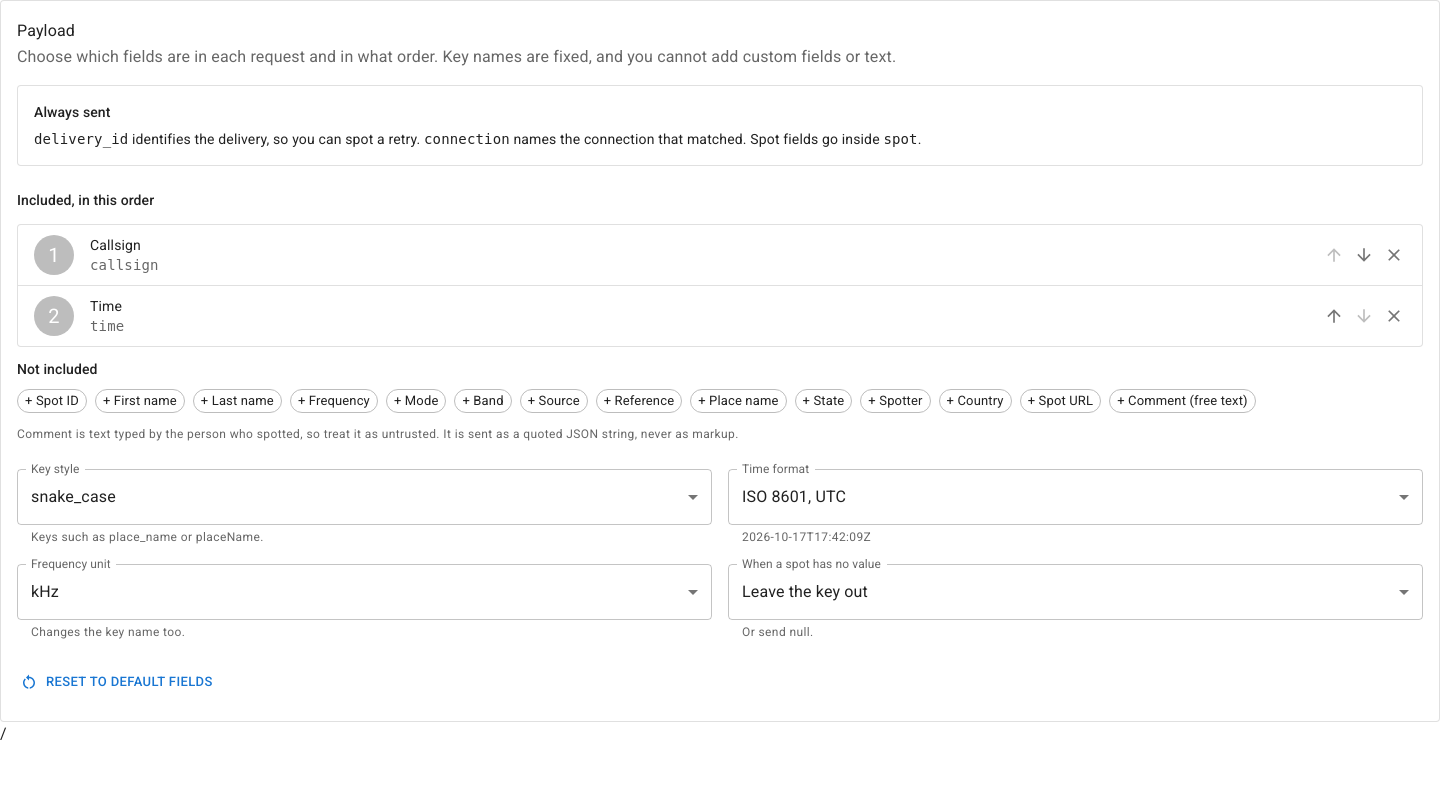
Test: WebhookPayloadCard › adds by chip, moves and removes, and keeps the minimum of one
This screenshot has width=1440, height=810.
What coordinates should you click on to do the following:
click the button with aria-label "Add Country"
I would click on:
 (975, 401)
Its box is [939,389,1012,413].
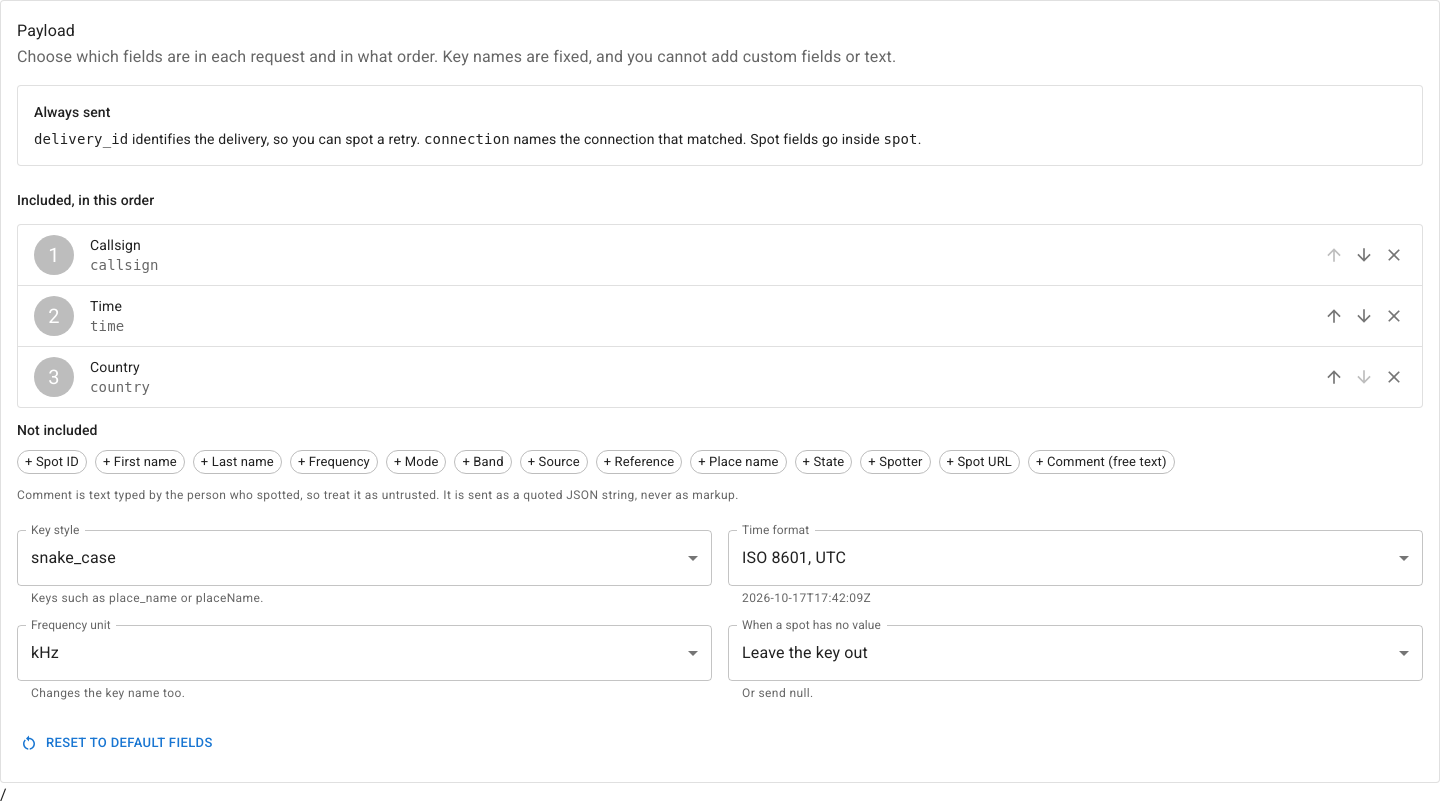
What coordinates should you click on to do the following:
click the button named "Move Country up"
I would click on:
 (1334, 377)
Its box is [1319,362,1349,392].
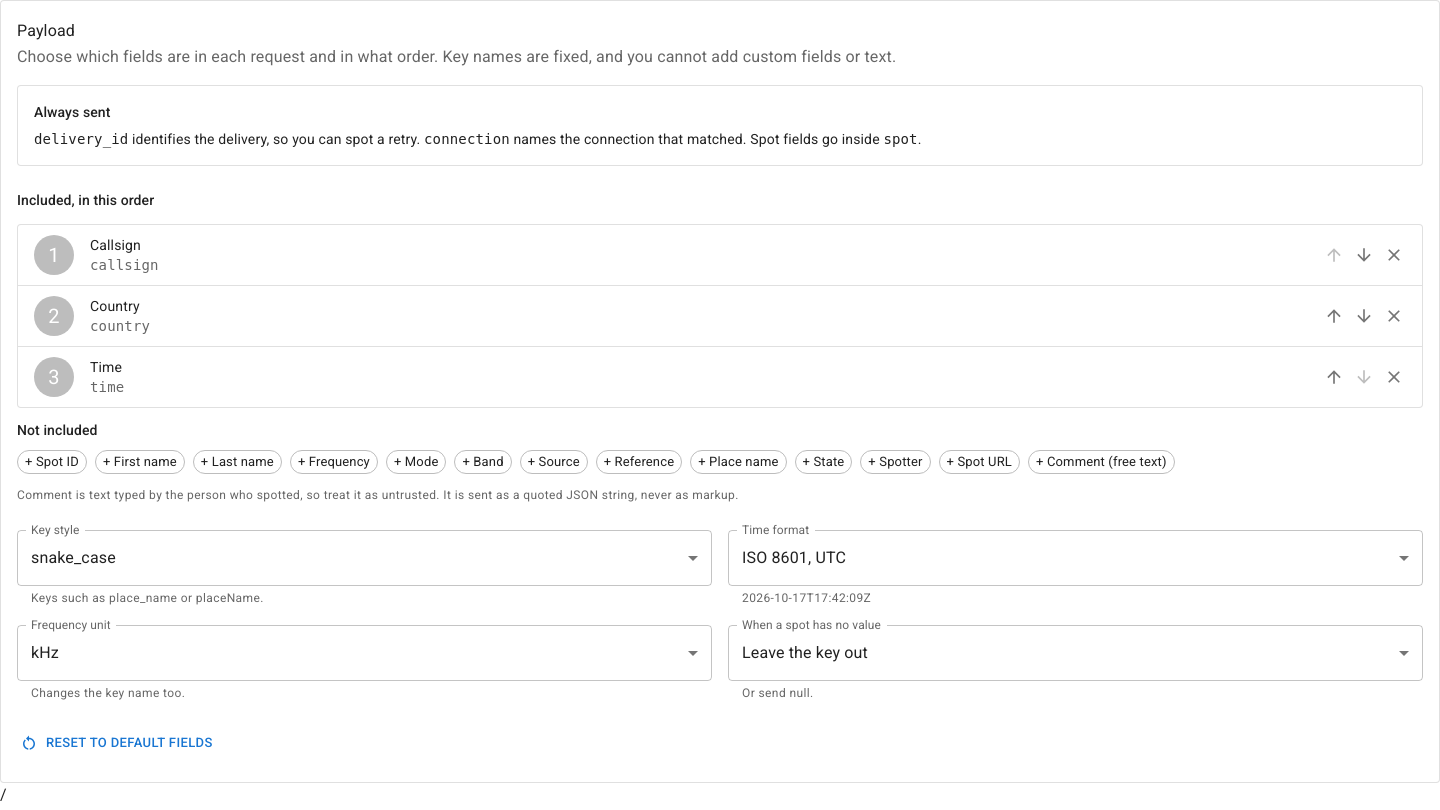
What coordinates should you click on to do the following:
click the button named "Remove Callsign"
I would click on:
 (1394, 255)
Its box is [1379,240,1409,270].
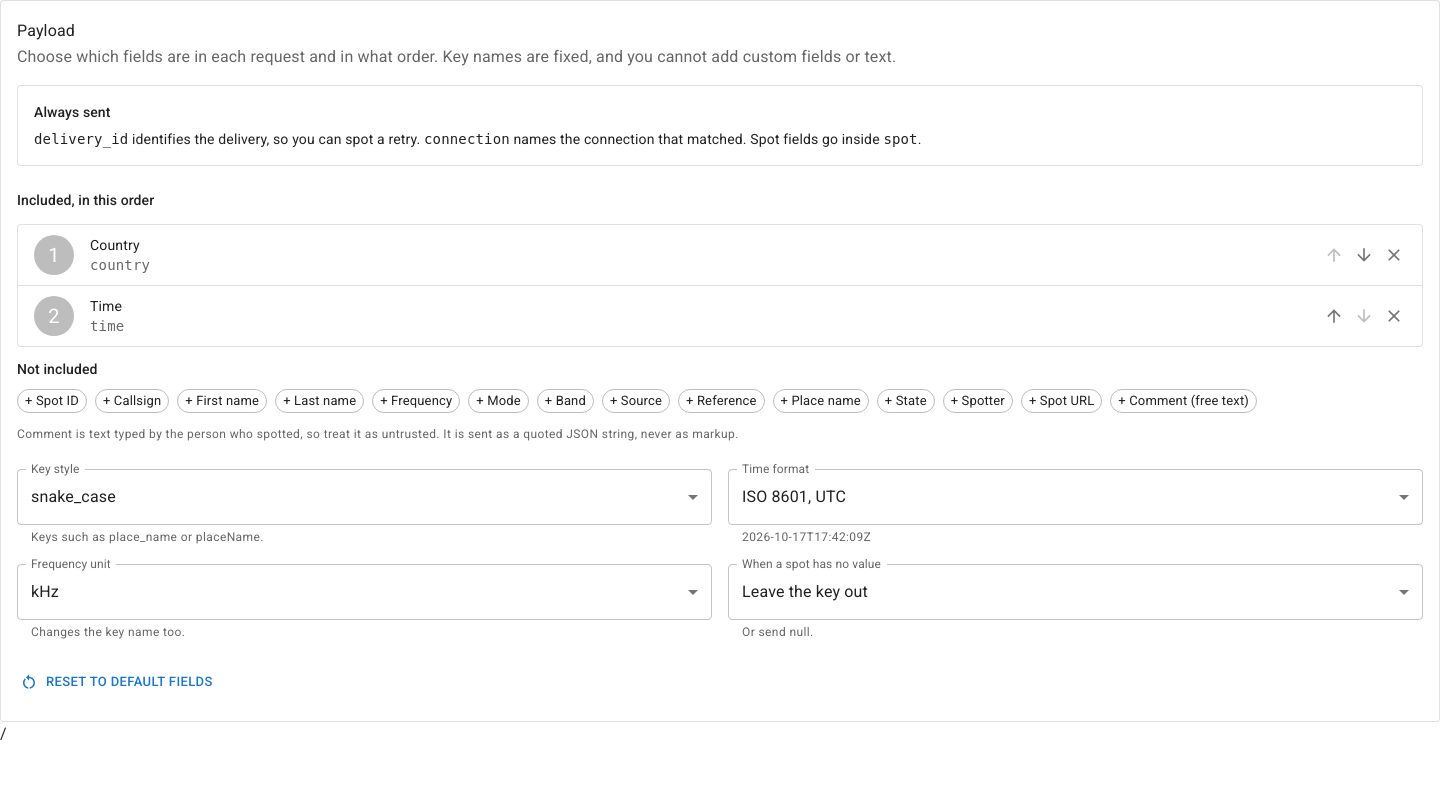
What coordinates should you click on to do the following:
click the button named "Remove Time"
I would click on:
 (1394, 316)
Its box is [1379,301,1409,331].
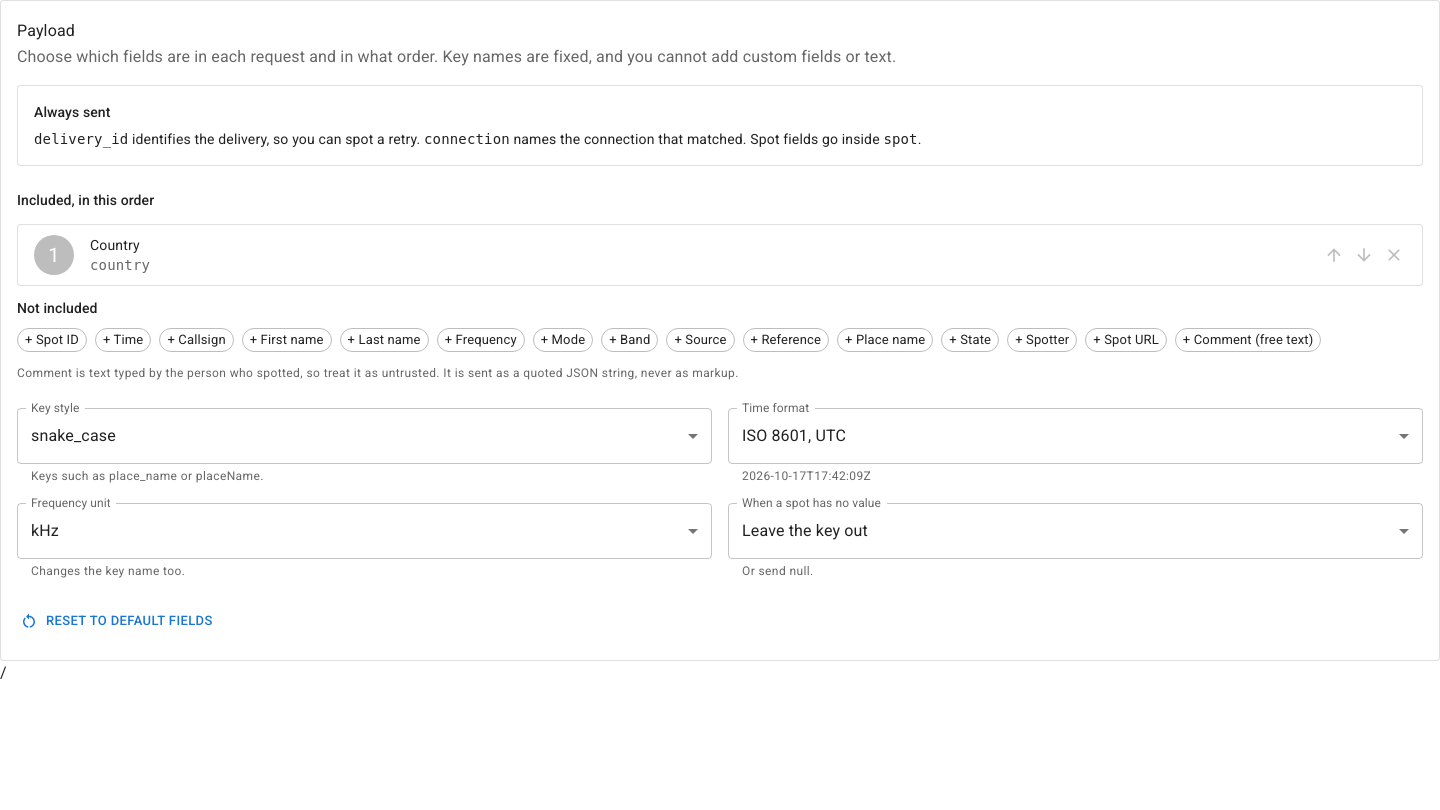
Expected: the button named "Remove Country" is disabled, [1379,240,1409,270]
